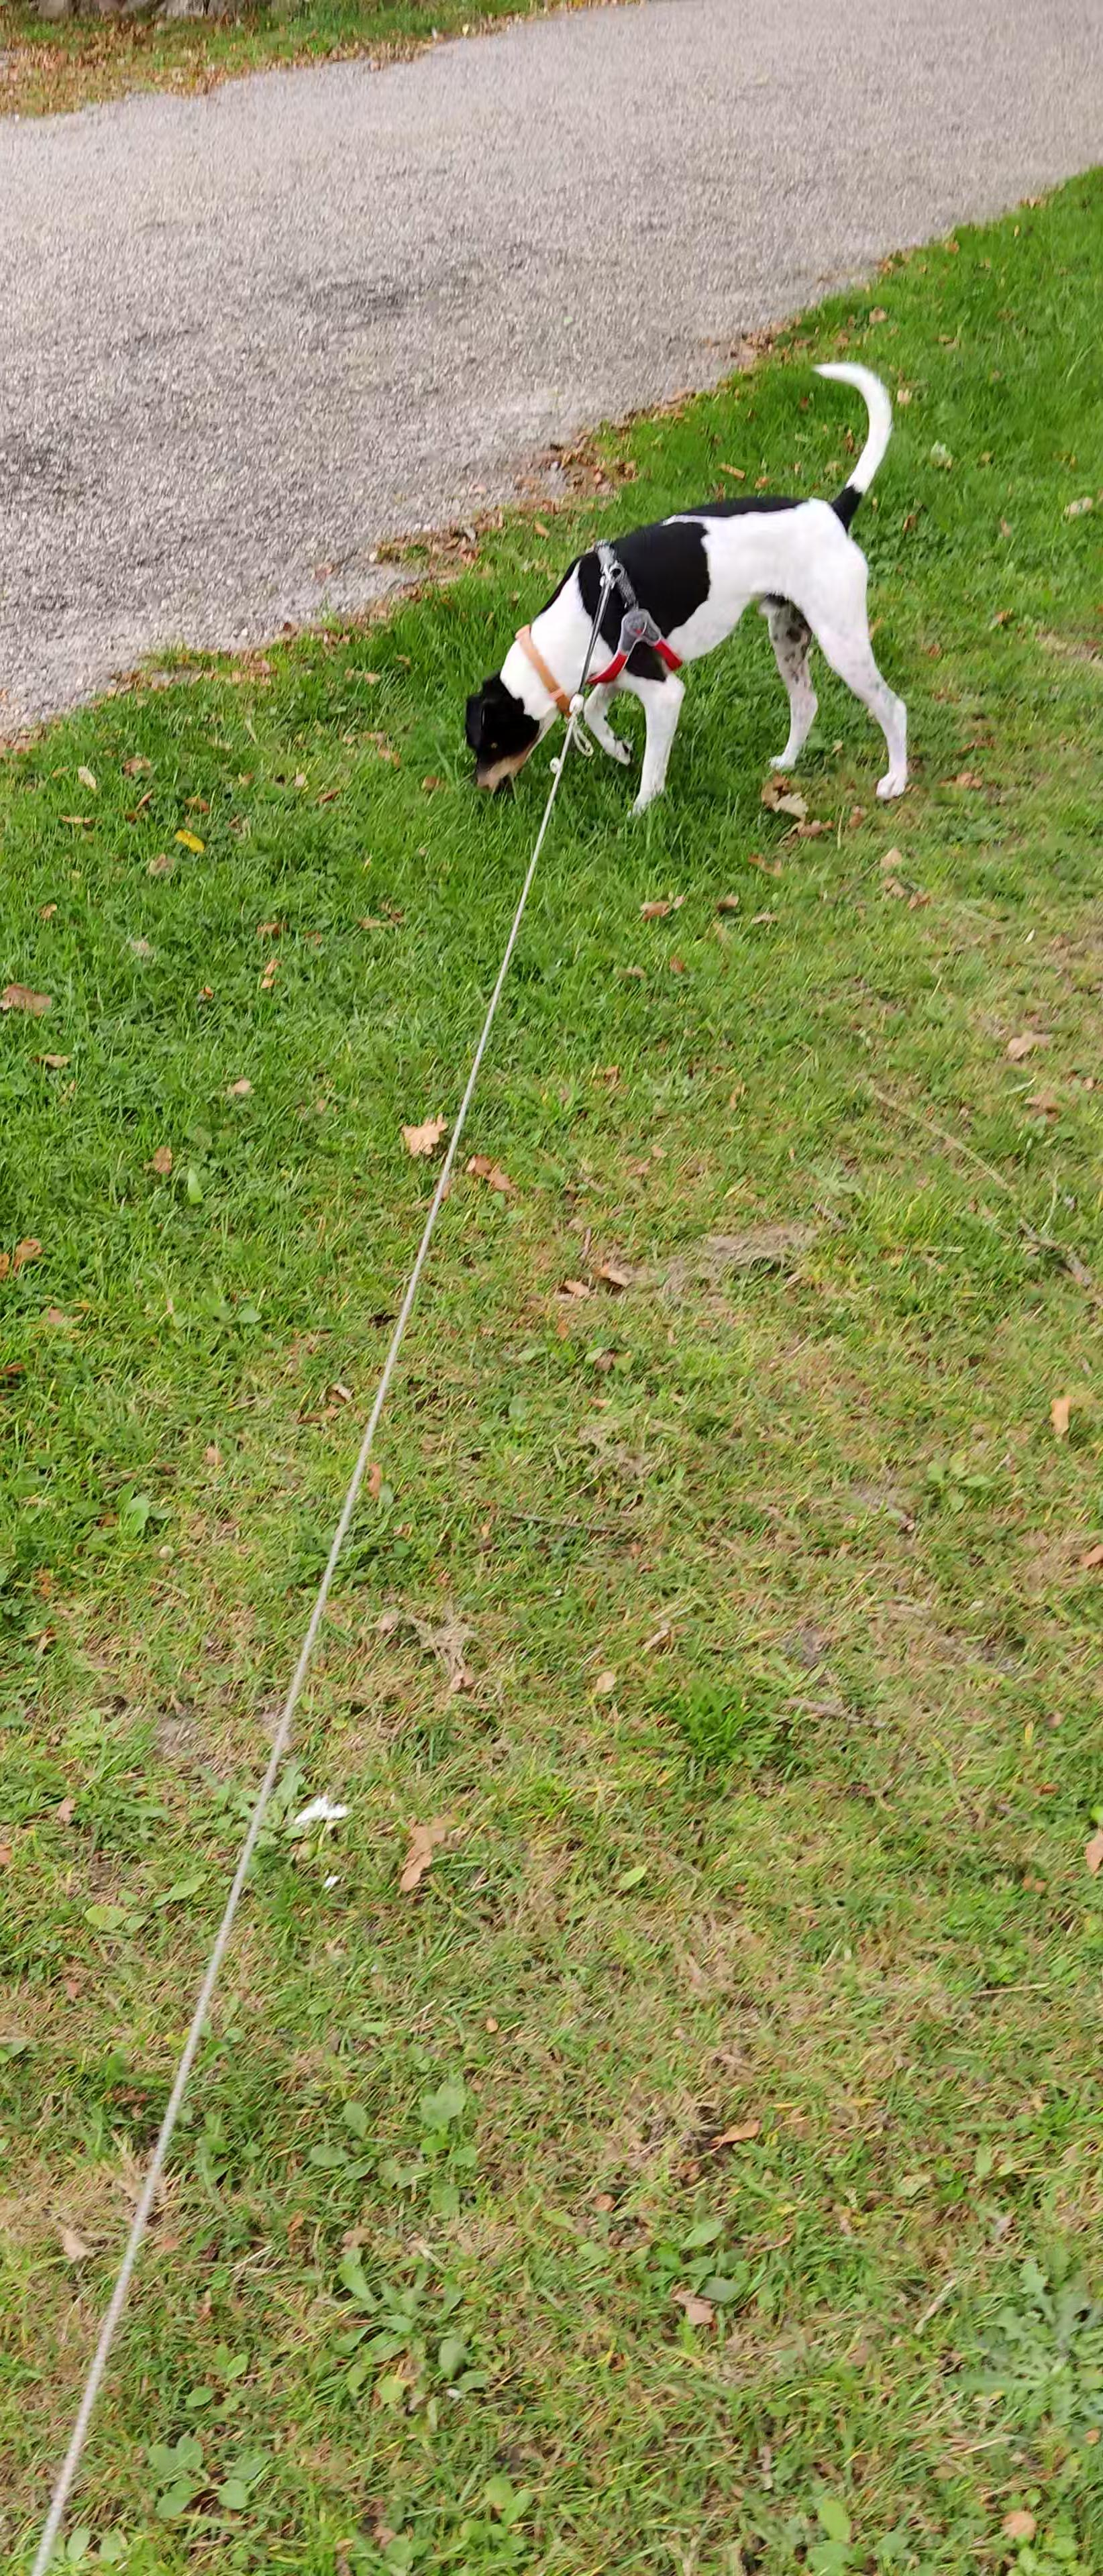Dog: (452, 343, 924, 818)
